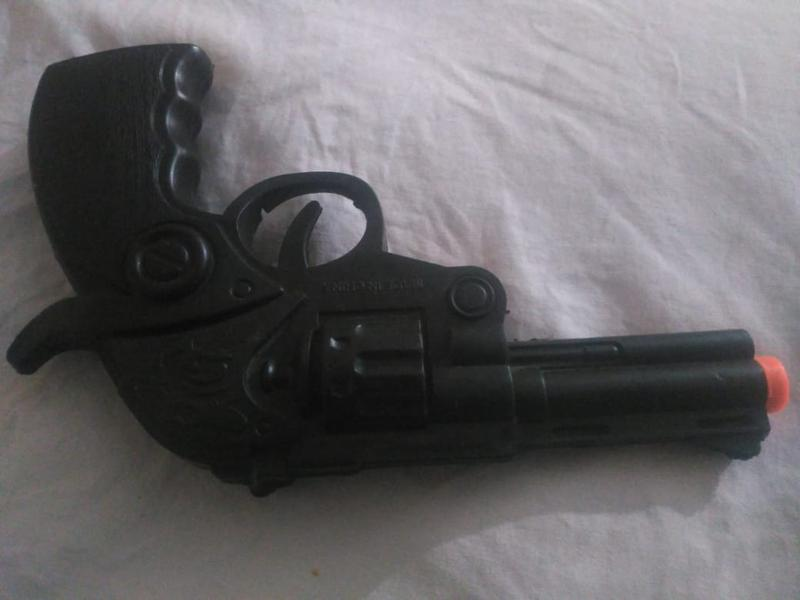gun: (3, 35, 799, 562)
